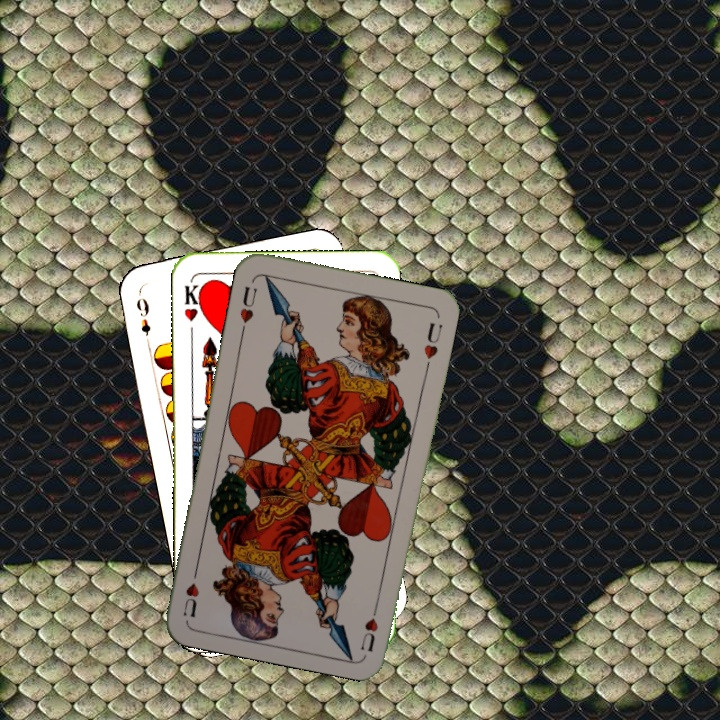E9: (132, 288, 154, 347)
HK: (180, 277, 206, 324)
HU: (356, 597, 382, 655), (236, 282, 260, 335)
